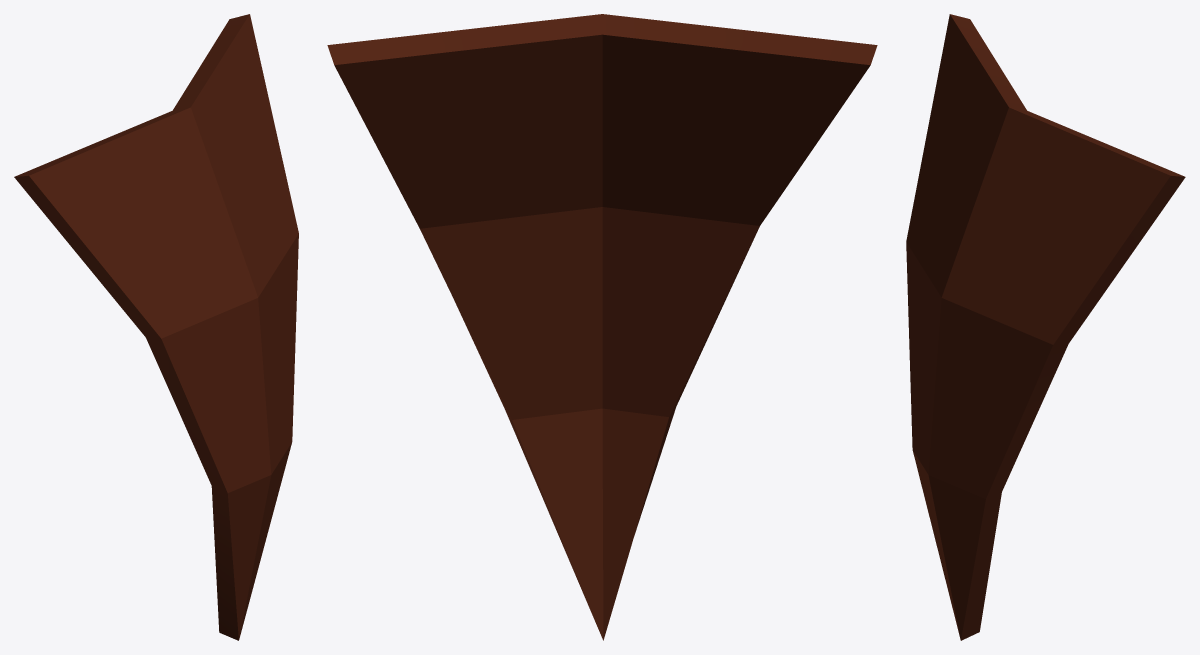
File: pot2piece5.fbx
3 views of the same model, side by side, from view 1: azimuth 30°, elevation 25°; view 2: azimuth 150°, elevation 25°; view 3: azimuth 270°, elevation 25° (orthographic). The views are drawn at different scales.
Parts seen in each view (by area): view 1: pot2 broken5; view 2: pot2 broken5; view 3: pot2 broken5.
Part boxes in pixels (bbox=[...]): pot2 broken5: bbox=[14, 14, 298, 640]; pot2 broken5: bbox=[327, 14, 877, 640]; pot2 broken5: bbox=[906, 14, 1185, 640].
Size of the model in its own units: 17.1 by 25.35 by 12.31.
